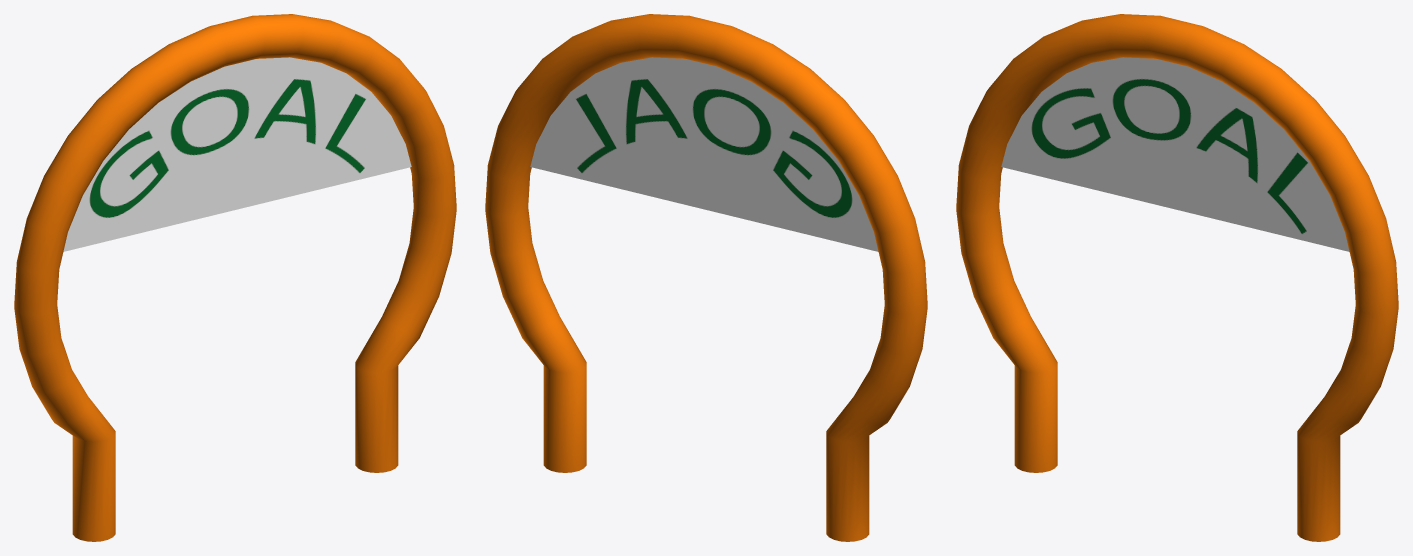
File: Goal.FBX
The picture shows the model from 3 angles, left to right: view 1: azimuth 30°, elevation 25°; view 2: azimuth 150°, elevation 25°; view 3: azimuth 330°, elevation 25°; orthographic projection.
Visible parts, largest first — view 1: Cylinder001; view 2: Cylinder001; view 3: Cylinder001.
Boxes of the visible parts, x1,y1,x2,y2 form: Cylinder001: (14, 14, 456, 541); Cylinder001: (485, 14, 927, 541); Cylinder001: (956, 14, 1398, 541).
Bounding box in the file's own units: 91.37 × 7.75 × 95.05.
